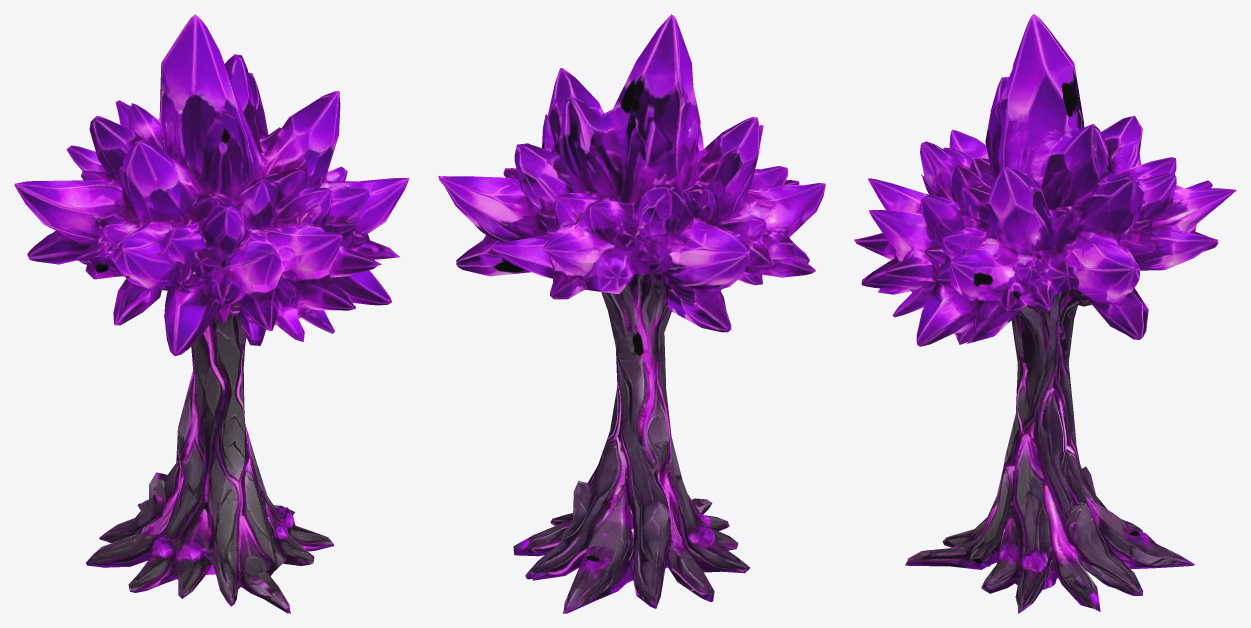
File: tree_b.glb
3 views of the same model, side by side, from view 1: azimuth 30°, elevation 25°; view 2: azimuth 150°, elevation 25°; view 3: azimuth 270°, elevation 25° (orthographic). The views are drawn at different scales.
Parts seen in each view (by area): view 1: Mesh0; view 2: Mesh0; view 3: Mesh0.
Boxes of the visible parts, x1,y1,x2,y2 form: Mesh0: (14, 14, 409, 613); Mesh0: (438, 14, 825, 613); Mesh0: (854, 14, 1236, 613).
Size of the model in its own units: 1.12 by 1.89 by 1.22.
Materials: 1 (1 with a texture image).
